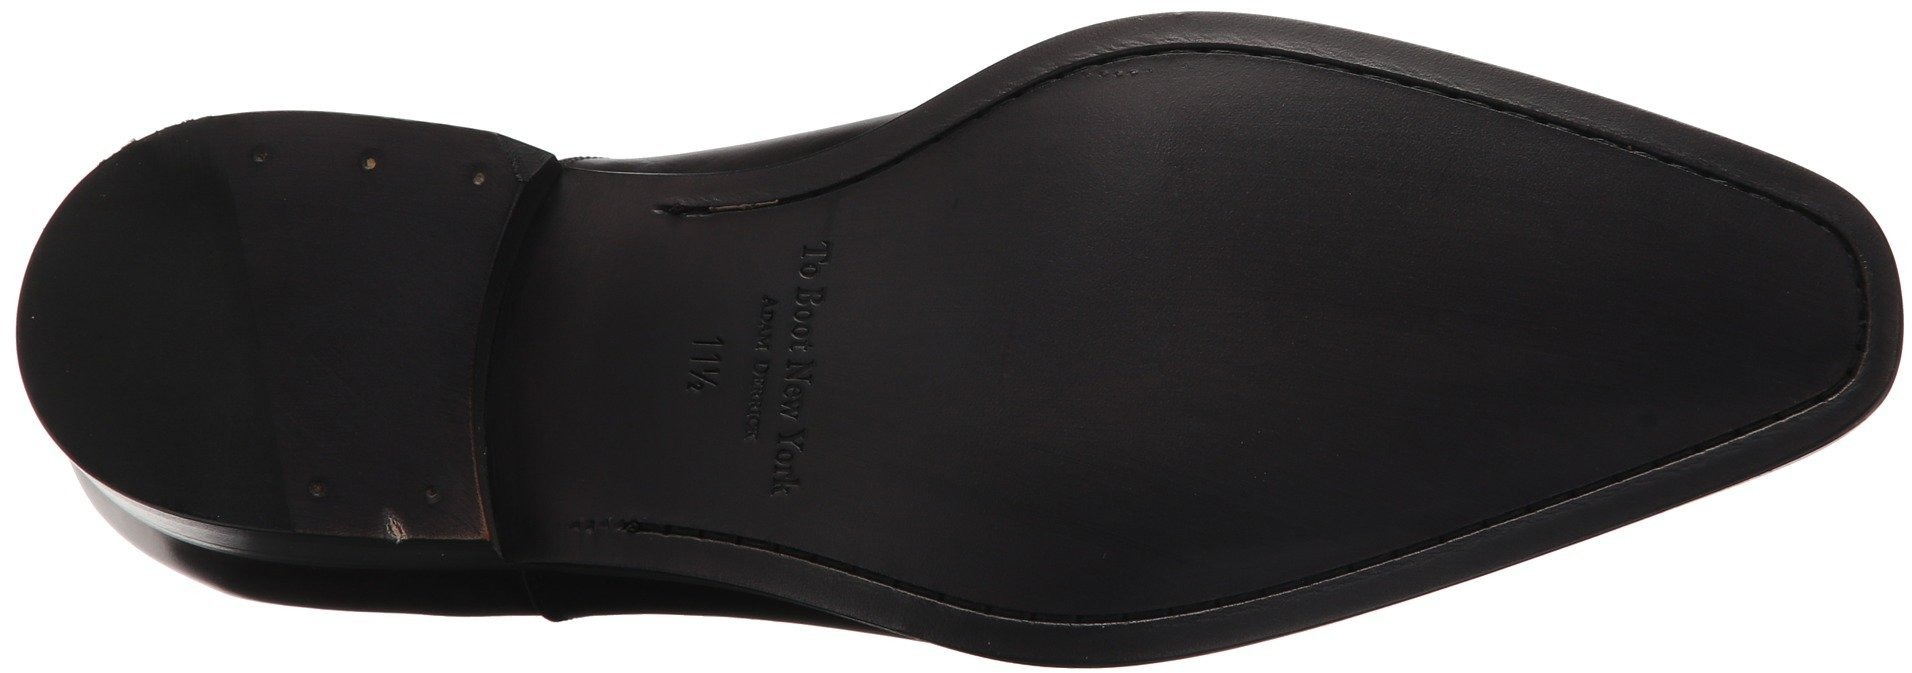other: (927, 137, 1230, 412), (1236, 119, 1524, 410), (56, 215, 302, 450), (1528, 180, 1743, 423), (930, 417, 1136, 610), (1140, 417, 1312, 575), (311, 218, 471, 380), (1318, 415, 1454, 536)
